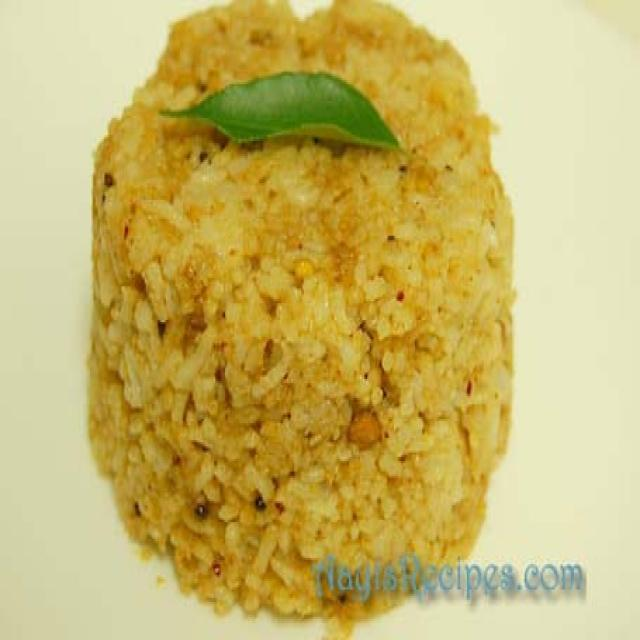puliyogare: (74, 0, 526, 633)
